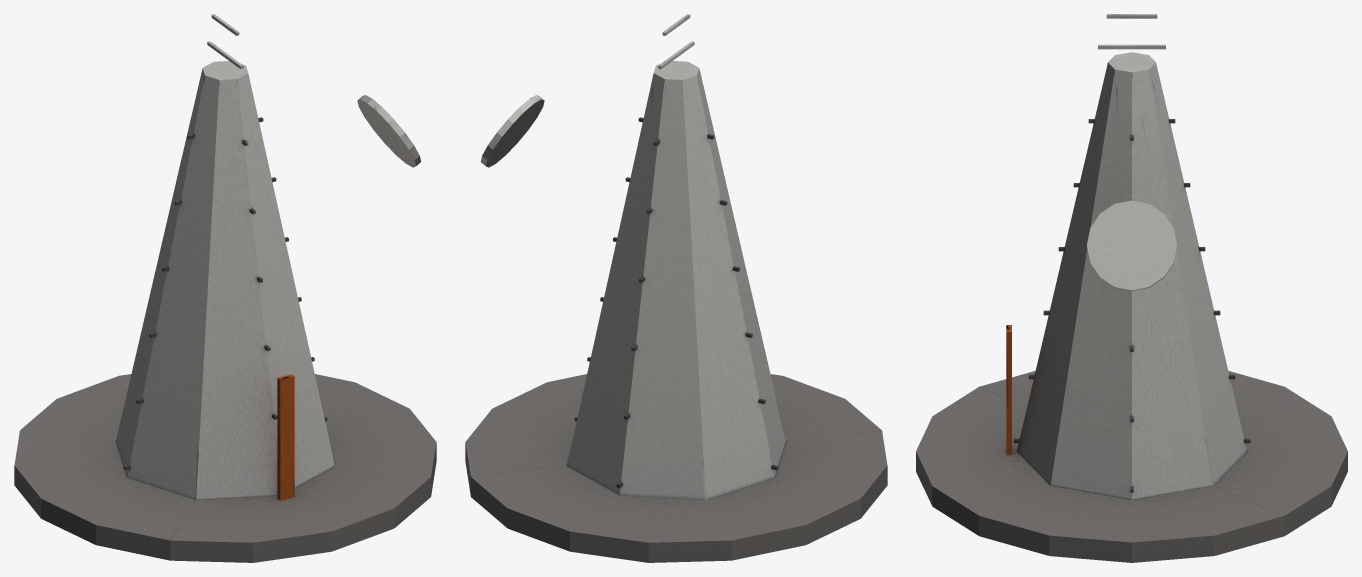
Rendered from radio_mast_2_kiln.glb.
3 renders of one model, left to right at view 1: azimuth 30°, elevation 25°; view 2: azimuth 150°, elevation 25°; view 3: azimuth 270°, elevation 25°, orthographic.
Parts seen in each view (by area): view 1: Cone; view 2: Cone; view 3: Cone.
Boxes of the visible parts, <box> form: Cone: <box>14,14,436,562</box>; Cone: <box>465,14,887,562</box>; Cone: <box>916,14,1347,562</box>.
Size of the model in its own units: 15.36 by 17.86 by 15.3.
Materials: 1 (1 with a texture image).
